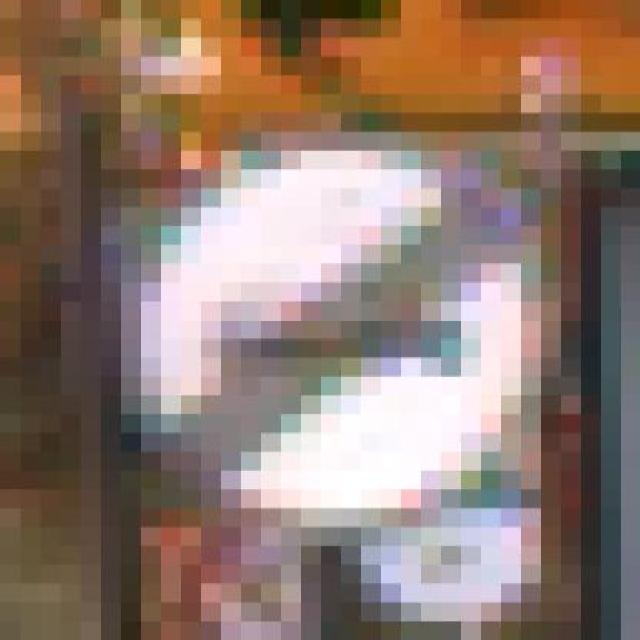No_Over_Taking: (40, 75, 580, 528)
